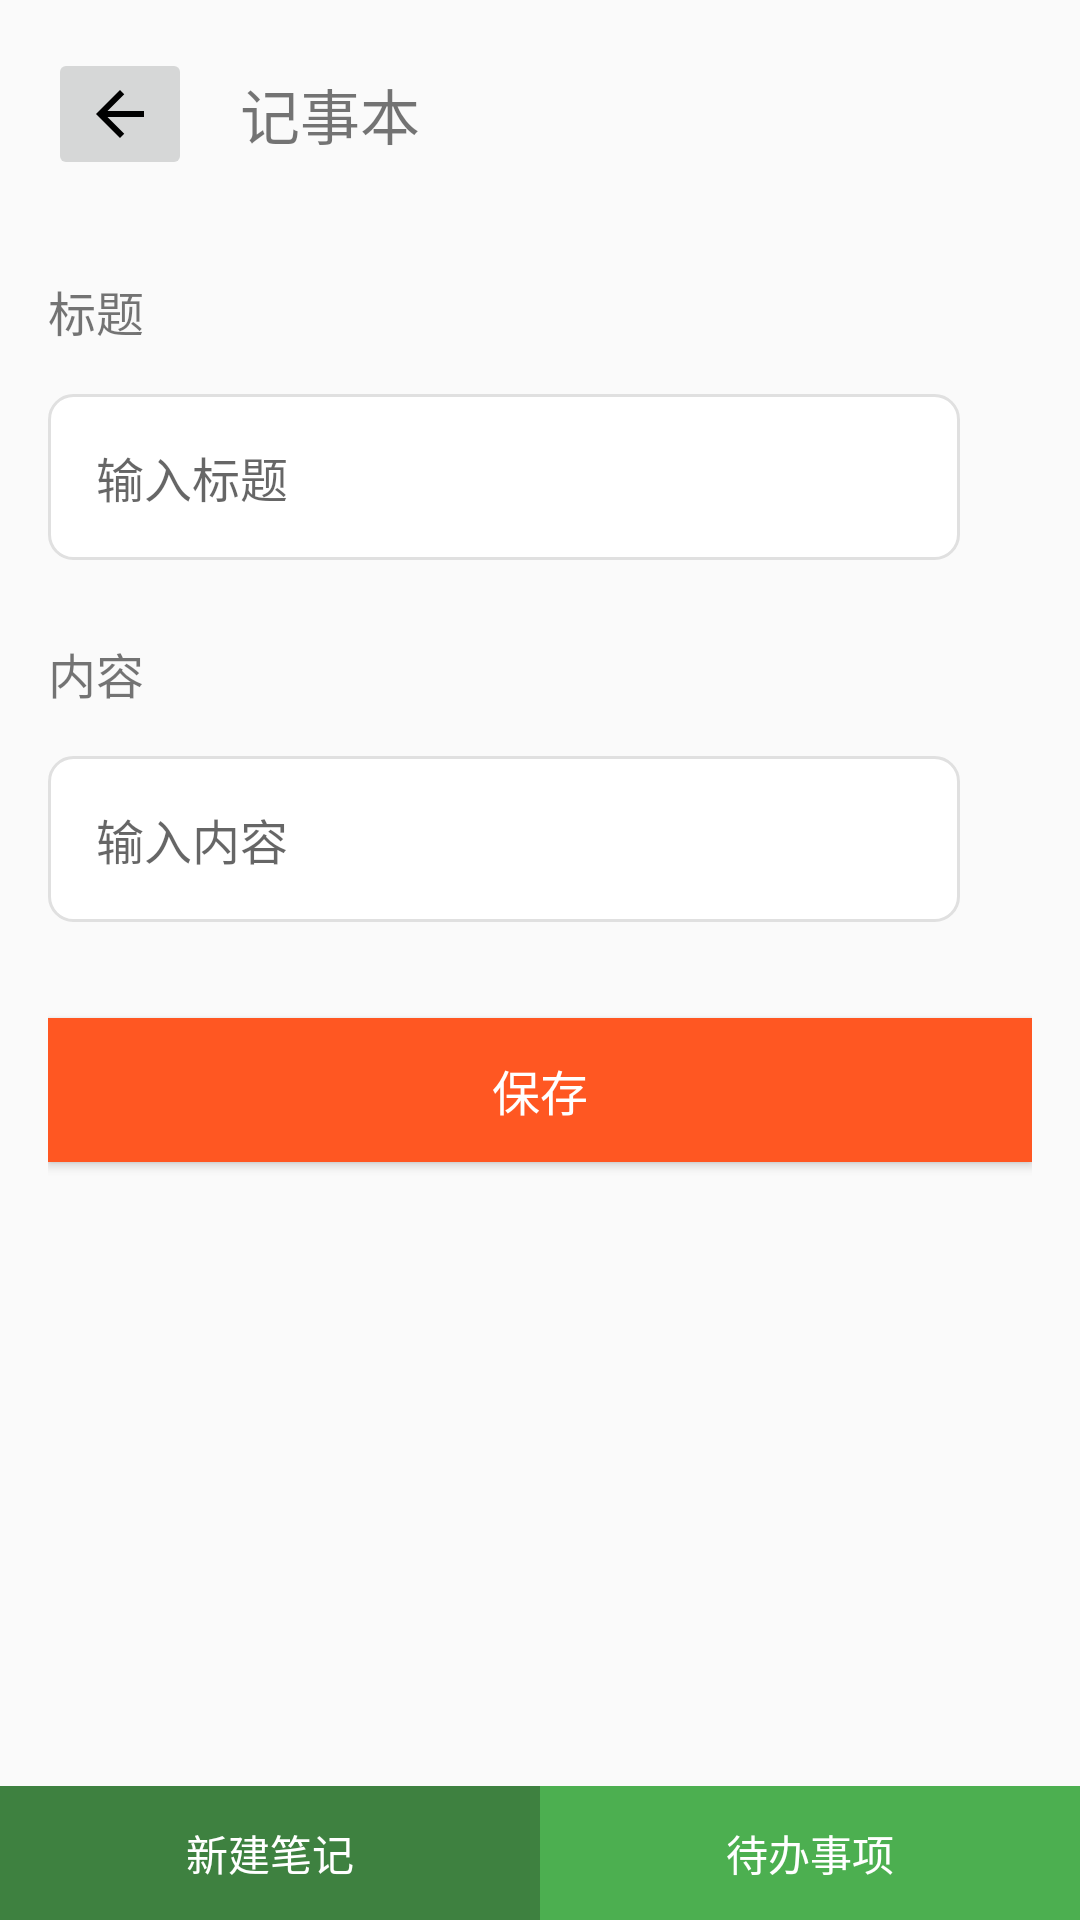

Named icons in this screenshot (1080*1920) and their centers, [x,y]:
back: [120,114]
